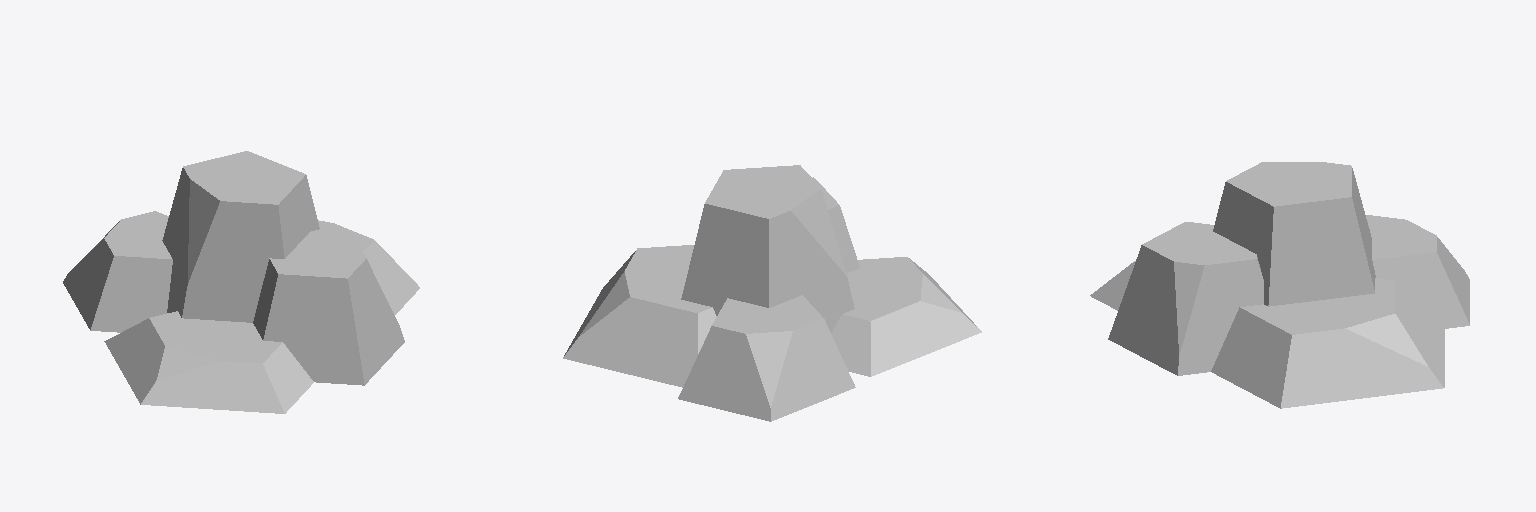
The model's file is BigDirtHill.obj.
3 renders of one model, left to right at view 1: azimuth 30°, elevation 25°; view 2: azimuth 150°, elevation 25°; view 3: azimuth 270°, elevation 25°, orthographic.
Parts seen in each view (by area): view 1: rocks.002; view 2: rocks.002; view 3: rocks.002.
Boxes of the visible parts, x1,y1,x2,y2 form: rocks.002: [63, 151, 419, 413]; rocks.002: [563, 165, 981, 421]; rocks.002: [1090, 162, 1469, 408].
Size of the model in its own units: 1 by 0.4186 by 1.